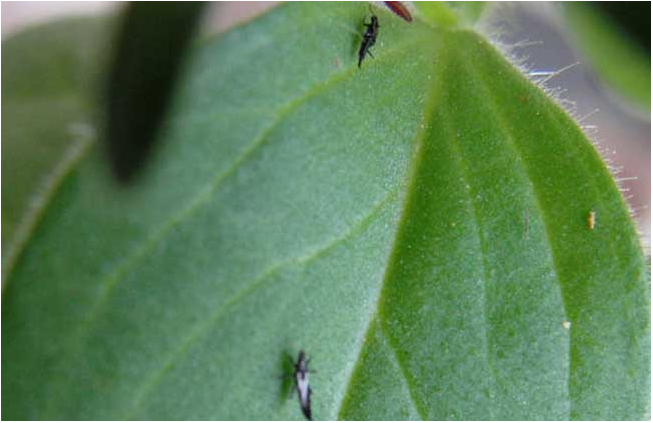thrips: (283, 348, 318, 421), (354, 11, 383, 70)
